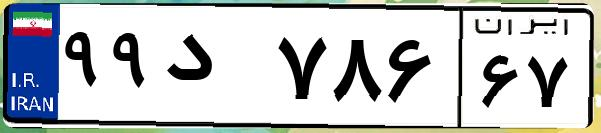6: (385, 28, 445, 110), (475, 38, 525, 113)
7: (270, 28, 330, 110), (525, 38, 570, 115)
8: (330, 28, 385, 110)
9: (57, 26, 110, 100), (110, 28, 158, 98)
د: (158, 20, 270, 120)
